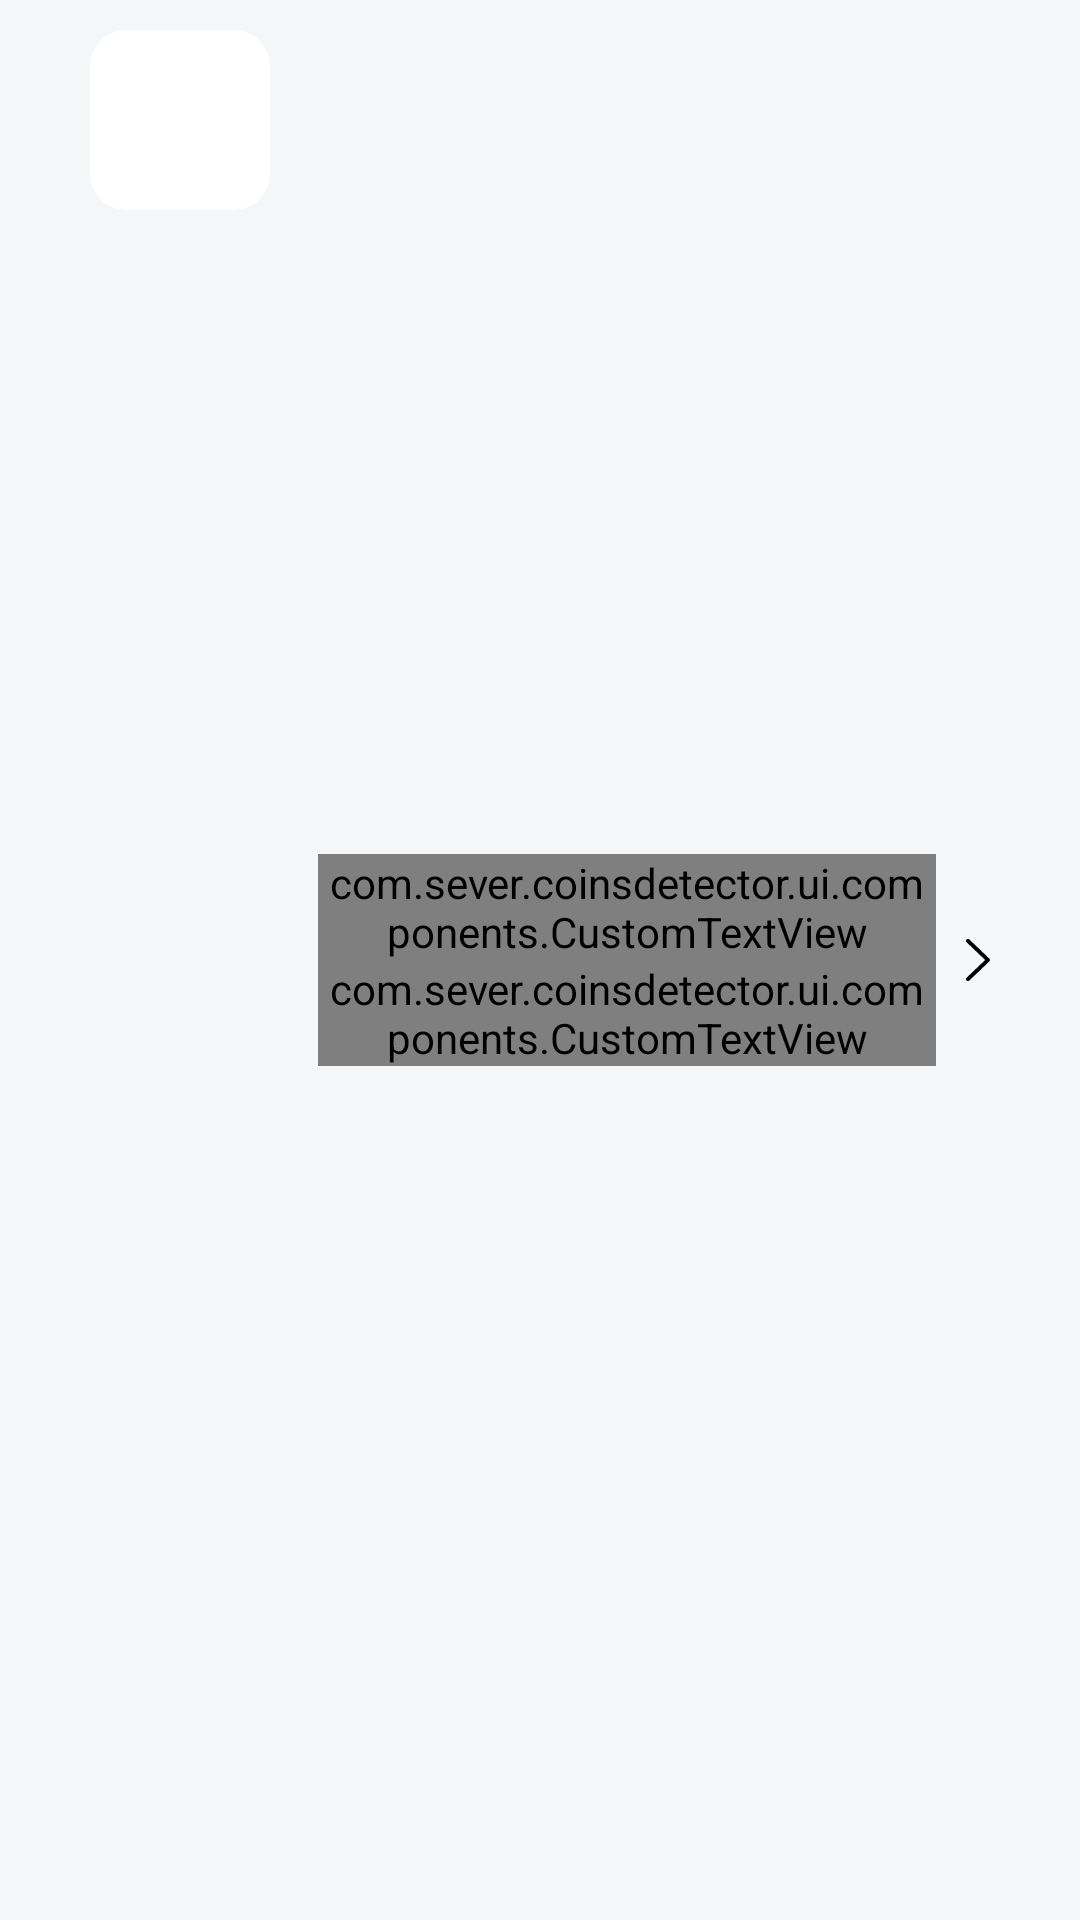

Point at icon controls on the screen. Image size 1080 × 1920, points as (x,y).
arrow right: (978,960)
